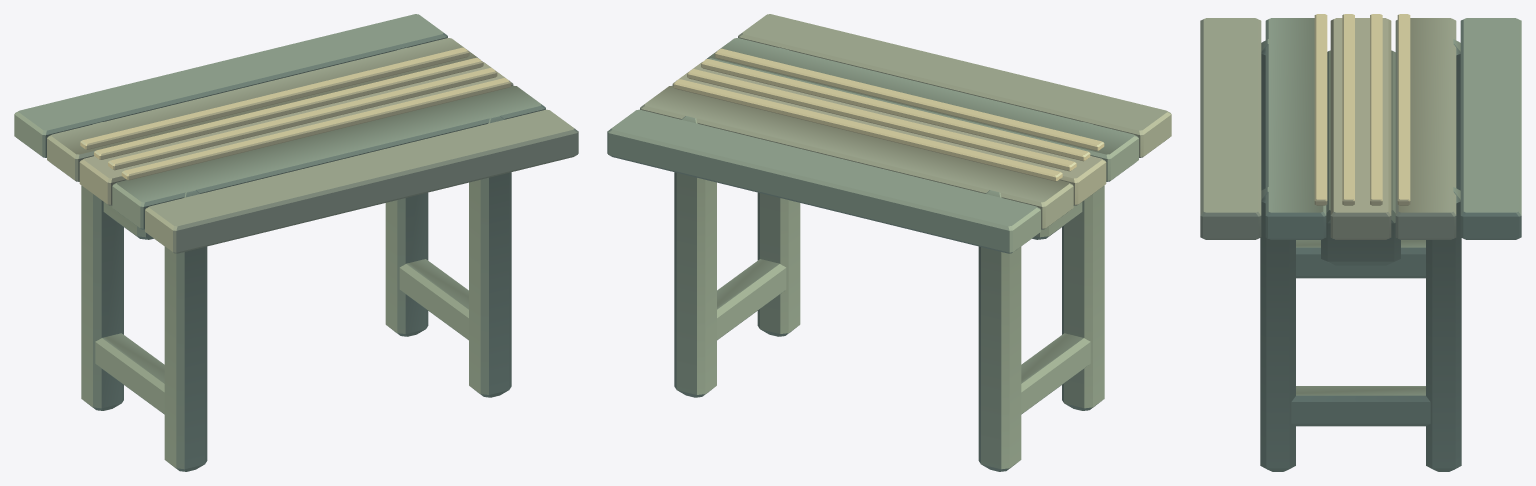
The model's file is furniture_strandtisch.glb.
The picture shows the model from 3 angles, left to right: view 1: azimuth 30°, elevation 25°; view 2: azimuth 150°, elevation 25°; view 3: azimuth 270°, elevation 25°; orthographic projection.
Parts seen in each view (by area): view 1: furniture_strandtisch; view 2: furniture_strandtisch; view 3: furniture_strandtisch.
Boxes of the visible parts, x1=… form: furniture_strandtisch: x1=14, y1=14, x2=578, y2=471; furniture_strandtisch: x1=607, y1=14, x2=1171, y2=471; furniture_strandtisch: x1=1200, y1=14, x2=1521, y2=471.
Bounding box in the file's own units: 1.52 × 1.03 × 1.05.
